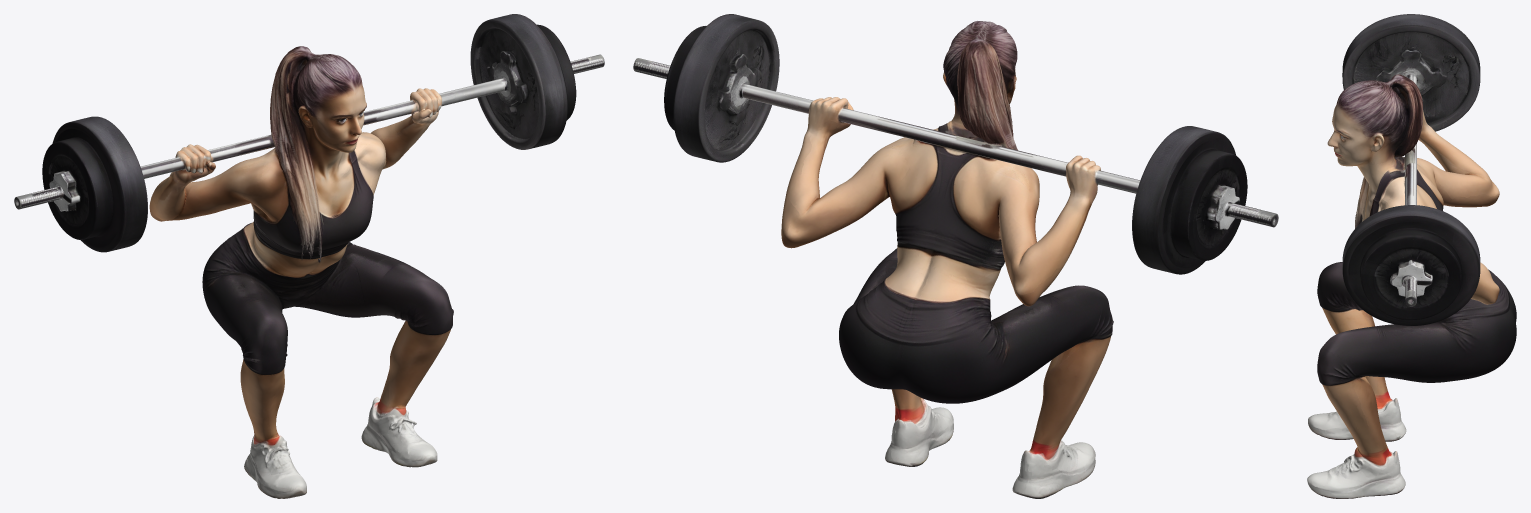
The model's file is ava_steele_athletic_female_weightlifter.glb.
The picture shows the model from 3 angles, left to right: view 1: azimuth 30°, elevation 25°; view 2: azimuth 150°, elevation 25°; view 3: azimuth 270°, elevation 25°; orthographic projection. The views are drawn at different scales.
Visible parts, largest first — view 1: mesh_node_0; view 2: mesh_node_0; view 3: mesh_node_0.
Part boxes in pixels (box(x1,y1,x2,y2)): mesh_node_0: box(14, 14, 604, 498); mesh_node_0: box(633, 14, 1278, 498); mesh_node_0: box(1307, 14, 1516, 498).
Size of the model in its own units: 1.9 by 1.27 by 0.6324.
1 material, 1 textured.
